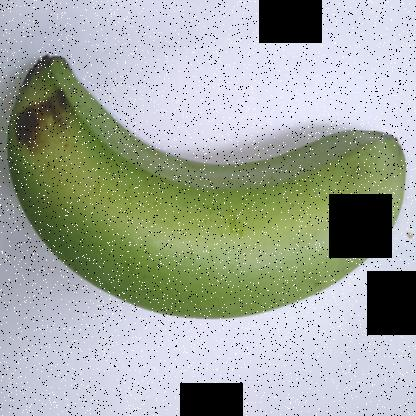freshunripe: (4, 47, 412, 341)
